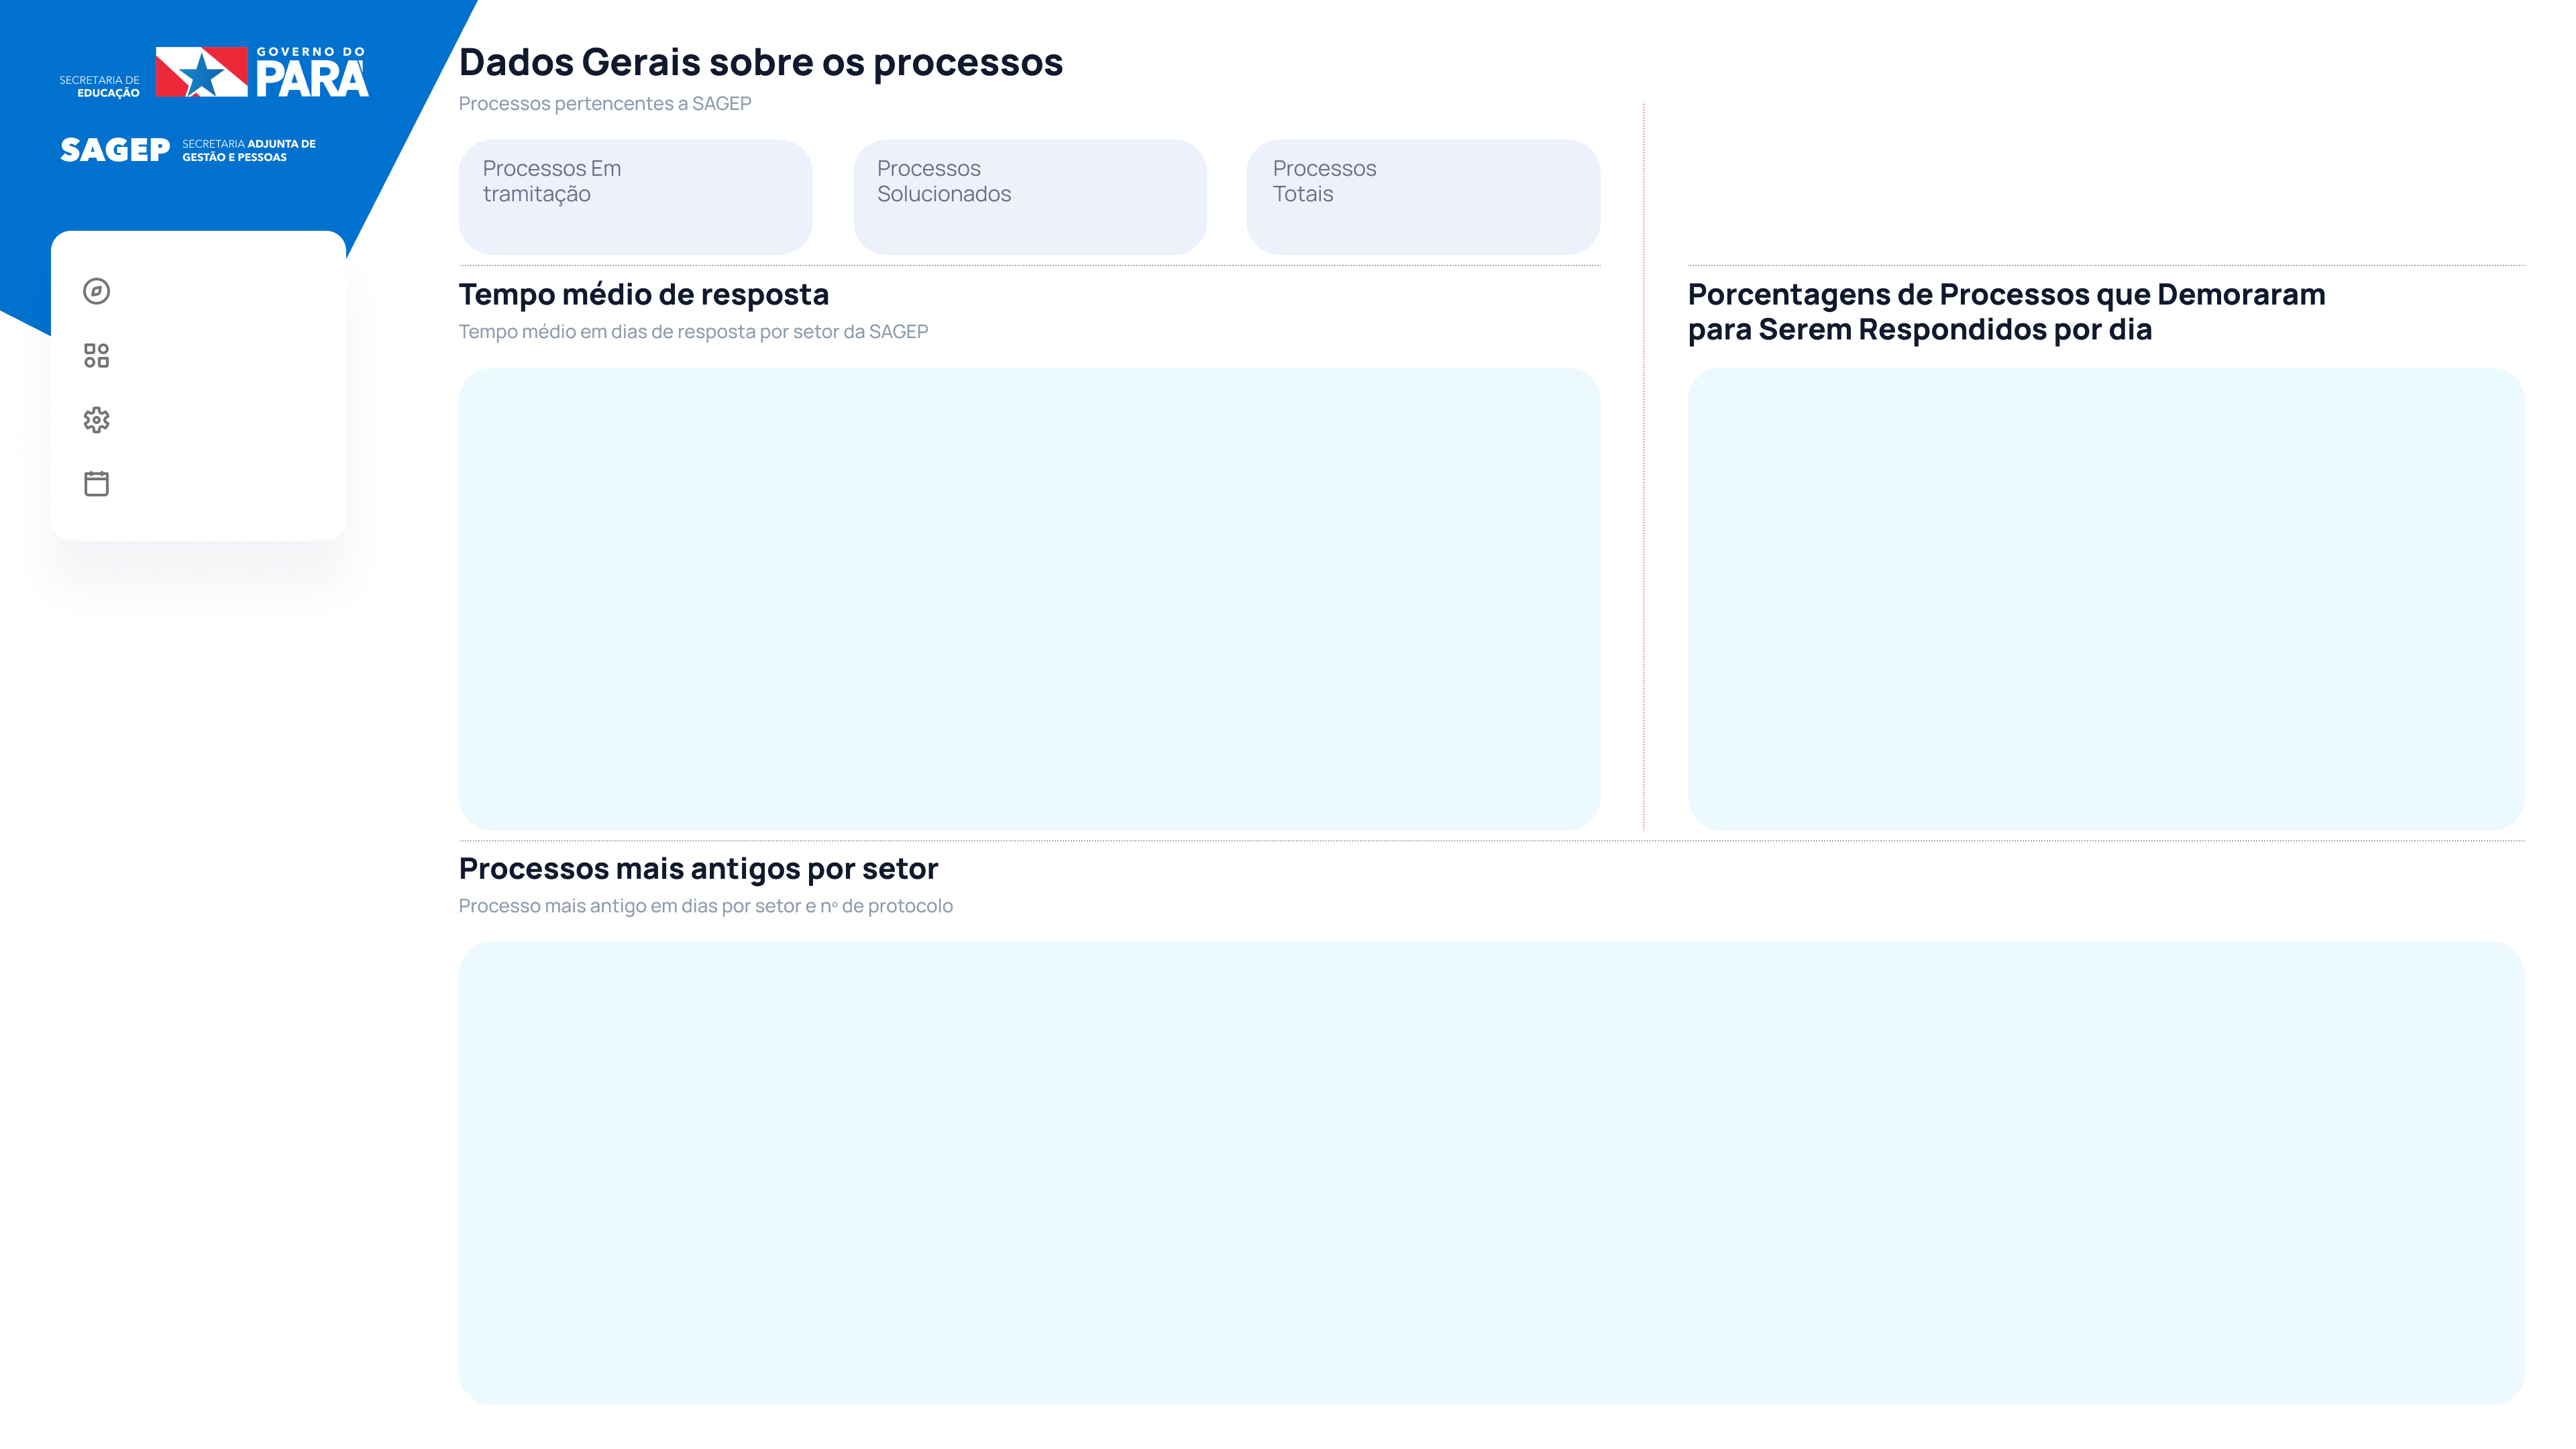

The dashboard page shown, as its layout file describes it:
{"tool":"powerbi","page":{"name":"Início","canvas":[1280,720],"ordinal":0},"visuals":[{"type":"barChart","fields":{"Y":["Sum(Tramitações.Tempo parado)"],"Category":["Tramitações.Destino"],"Series":["Tramitações.N° Protocolo"]},"box":[235.2,469.1,1014.3,224.3],"z":0},{"type":"barChart","fields":{"Category":["Média.Destino"],"Y":["Sum(Média.Tempo médio de resposta)"]},"box":[235.6,180.8,551.9,227.4],"z":2},{"type":"columnChart","fields":{"Y":["Sum(Tramitações.Tempo de resposta)"],"Category":["Tramitações.Tempo de resposta"],"Series":["Tramitações.Tempo de resposta"]},"box":[846.4,180.8,395.8,227.4],"z":3},{"type":"card","fields":{"Values":["CountNonNull(Tramitações.Tempo de resposta)"]},"box":[304.3,68.6,91.4,62.9],"z":4},{"type":"card","fields":{"Values":["CountNonNull(Tramitações.Tempo parado)"]},"box":[511.4,77.1,70,47.1],"z":5},{"type":"card","fields":{"Values":["CountNonNull(Tramitações.N° Protocolo)"]},"box":[681.4,72.9,90,51.4],"z":6},{"type":"textFilter25A4896A83E0487089E2B90C9AE57C8A","fields":{"field":["Críticos.Setor Traduzido"]},"box":[816.5,76,436.6,50.7],"z":7},{"type":"image","box":[50.3,134.7,64,22],"z":8},{"type":"image","box":[60.3,166.5,82.6,24.8],"z":9},{"type":"image","box":[60.4,198.5,59.2,21.9],"z":10}]}

Visuals, with their boxes on the page's 1280x720 design canvas (x1, y1, x2, y2). These are canvas units, not pixel positions in the 2576x1449 screenshot, which may show the page scaled, cropped or inside an application window:
barChart - Sum(Tramitações.Tempo parado) x Tramitações.Destino: <region>235, 469, 1250, 693</region>
barChart - Média.Destino x Sum(Média.Tempo médio de resposta): <region>236, 181, 788, 408</region>
columnChart - Sum(Tramitações.Tempo de resposta) x Tramitações.Tempo de resposta: <region>846, 181, 1242, 408</region>
card - CountNonNull(Tramitações.Tempo de resposta): <region>304, 69, 396, 132</region>
card - CountNonNull(Tramitações.Tempo parado): <region>511, 77, 581, 124</region>
card - CountNonNull(Tramitações.N° Protocolo): <region>681, 73, 771, 124</region>
textFilter25A4896A83E0487089E2B90C9AE57C8A - Críticos.Setor Traduzido: <region>816, 76, 1253, 127</region>
image: <region>50, 135, 114, 157</region>
image: <region>60, 166, 143, 191</region>
image: <region>60, 198, 120, 220</region>
